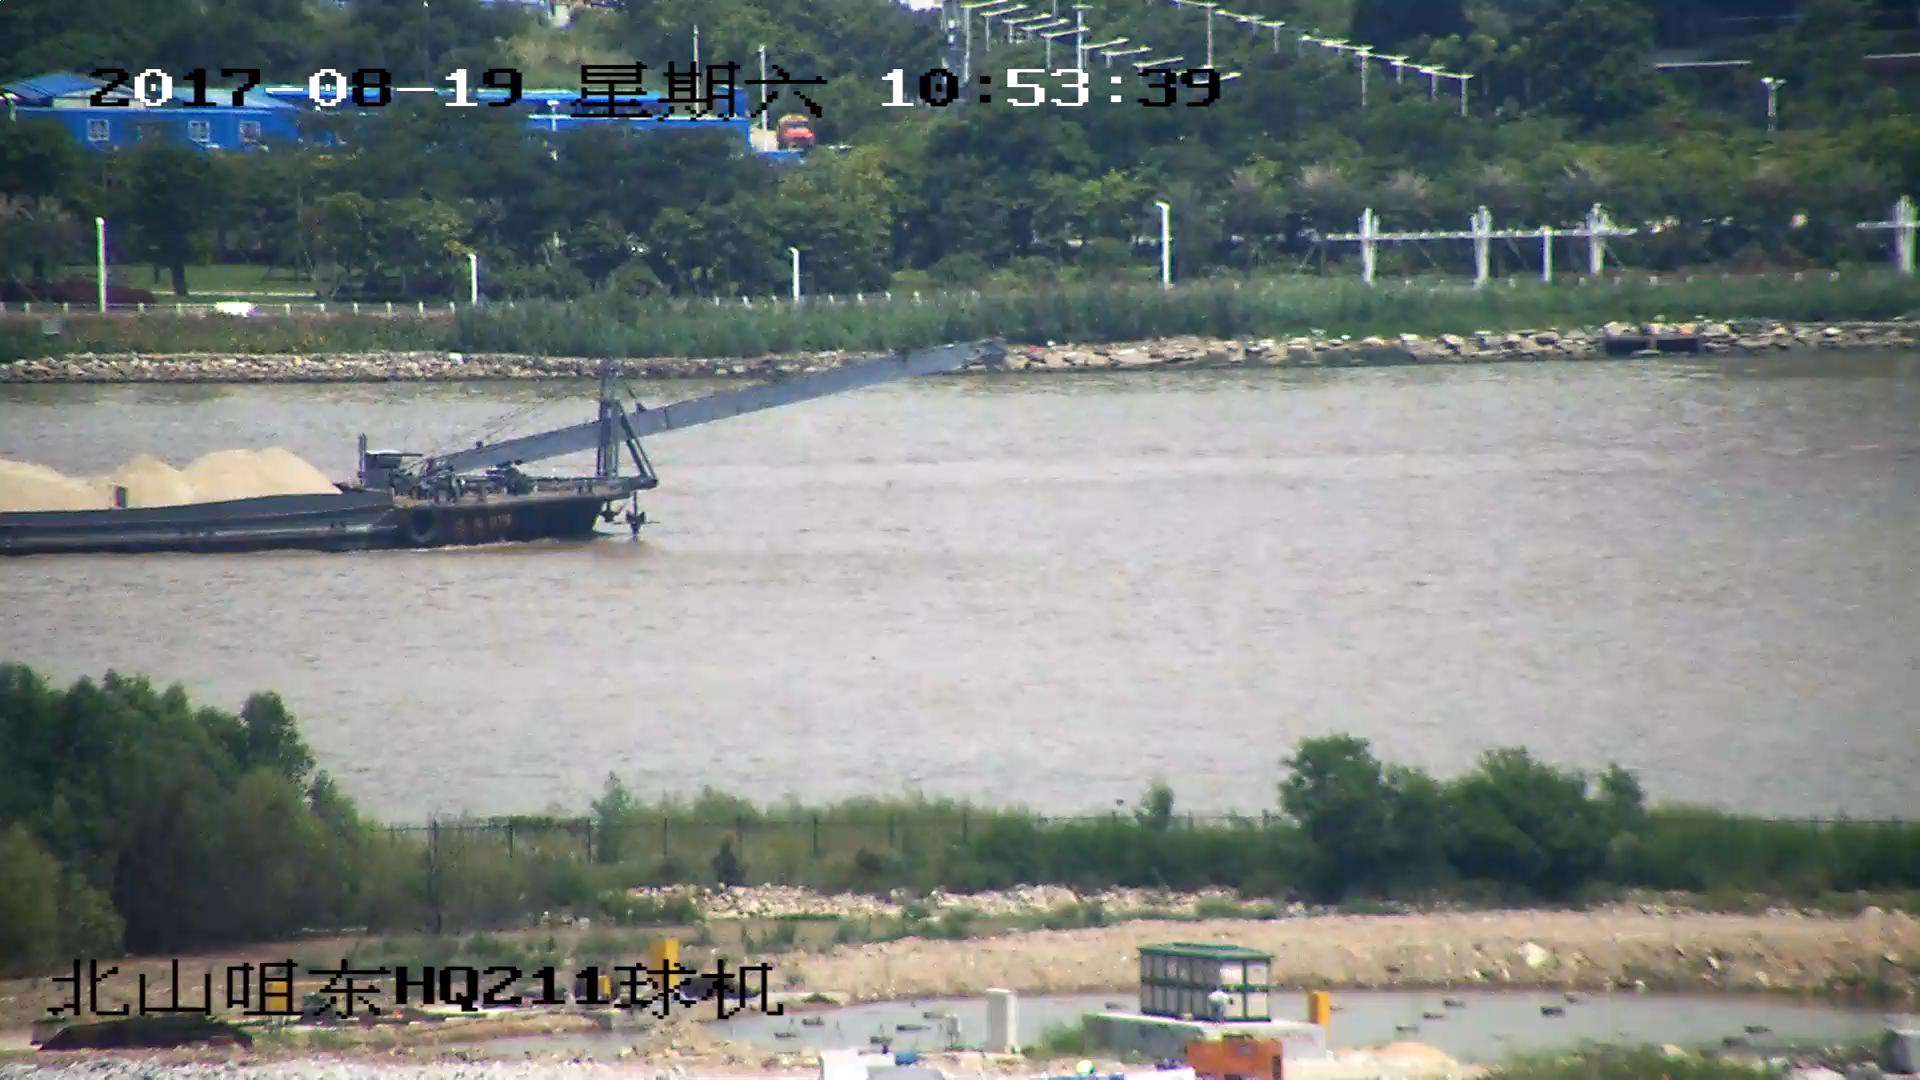ore carrier: (1, 340, 1002, 556)
